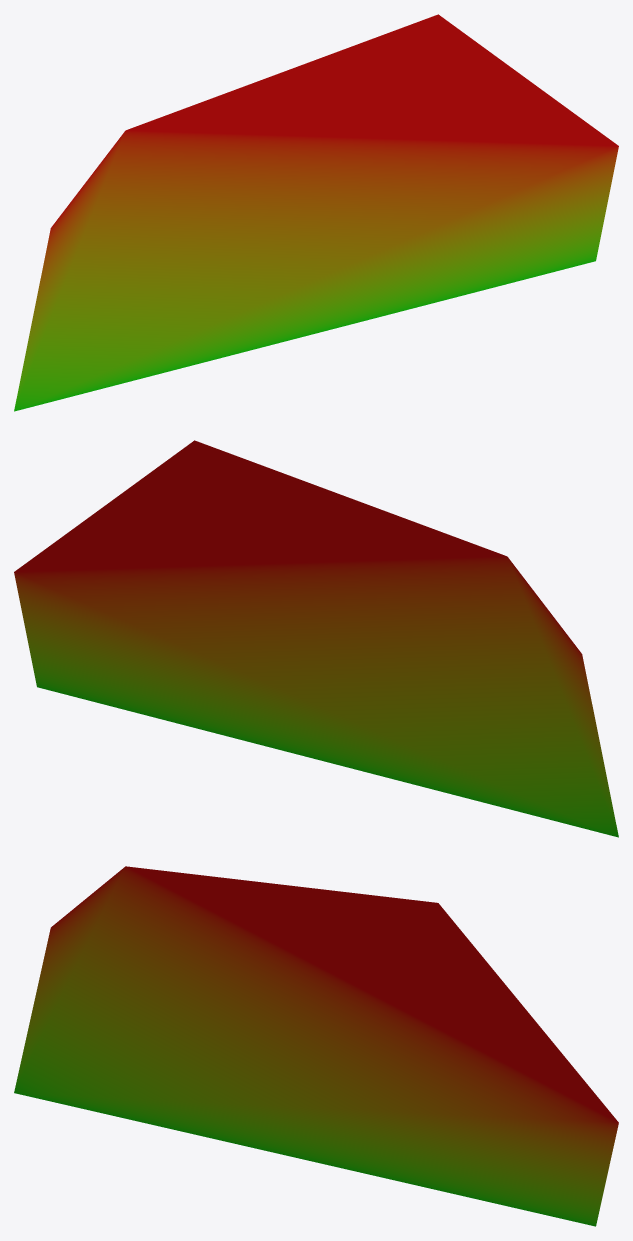
Rendered from Var2_LOD3.fbx.
The picture shows the model from 3 angles, top to bottom: view 1: azimuth 30°, elevation 25°; view 2: azimuth 150°, elevation 25°; view 3: azimuth 330°, elevation 25°; orthographic projection.
Parts seen in each view (by area): view 1: _756c_Var2_LOD3; view 2: _756c_Var2_LOD3; view 3: _756c_Var2_LOD3.
Part boxes in pixels (left/top/right/bottom): _756c_Var2_LOD3: left=14, top=14, right=618, bottom=411; _756c_Var2_LOD3: left=14, top=440, right=618, bottom=837; _756c_Var2_LOD3: left=14, top=866, right=618, bottom=1226.
Bounding box in the file's own units: 11.59 × 5.38 × 2.38e-07.
